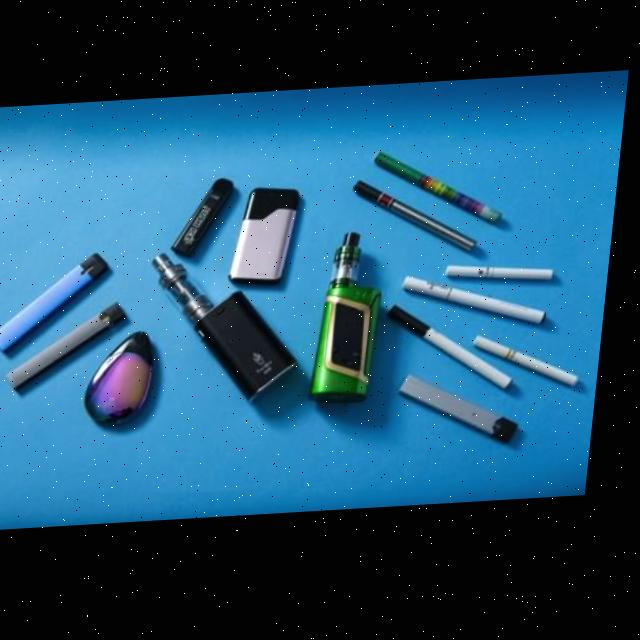cigarette: (404, 273, 558, 339), (477, 337, 593, 401), (450, 266, 562, 293)
vape: (145, 247, 317, 415), (316, 233, 394, 412), (387, 304, 528, 403), (371, 149, 514, 236), (0, 252, 117, 354), (353, 177, 490, 264), (12, 302, 136, 392), (403, 374, 533, 455), (90, 332, 166, 431), (233, 188, 306, 291), (177, 180, 239, 261)
